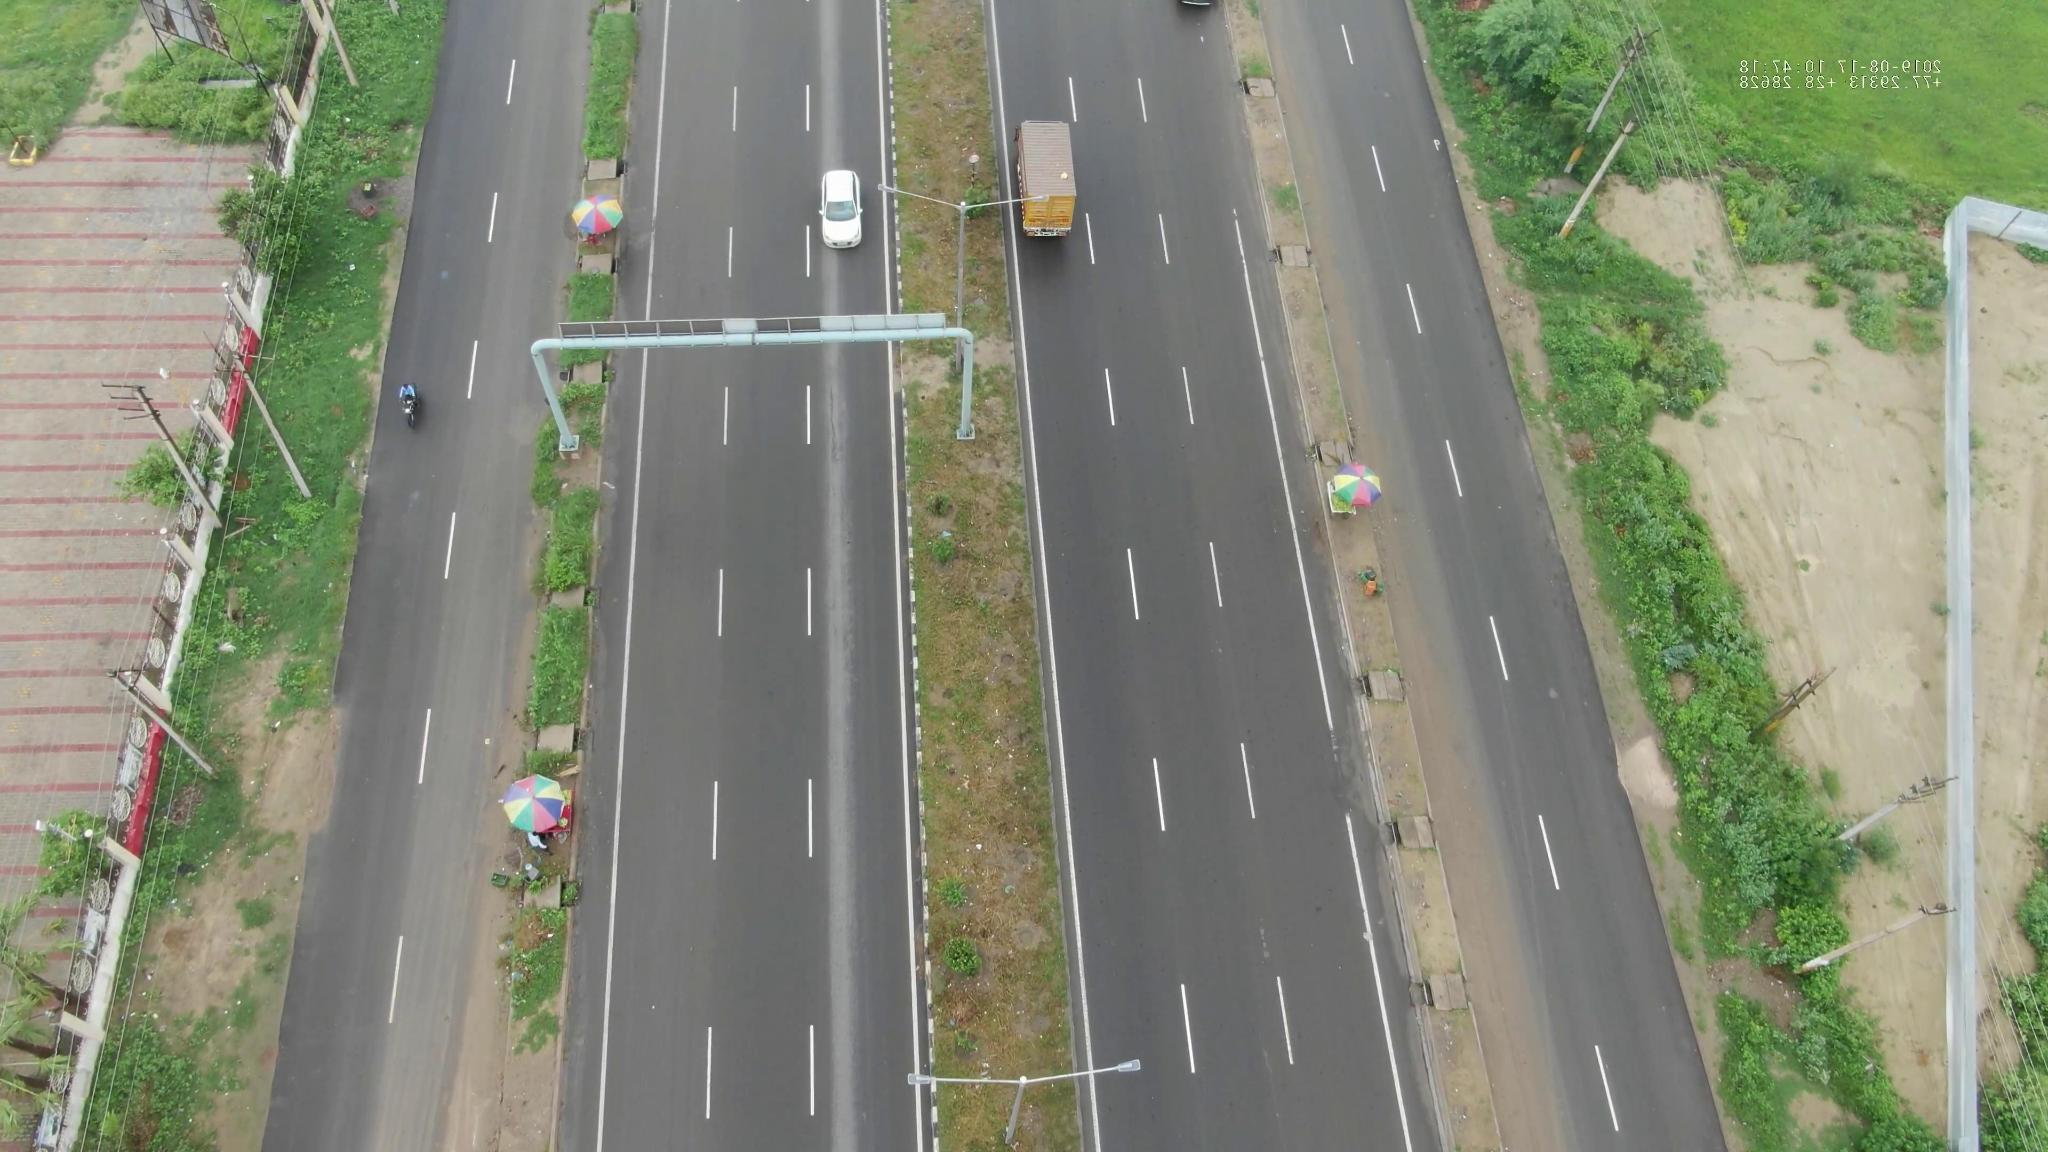Muddy_road: (279, 716, 354, 845)
